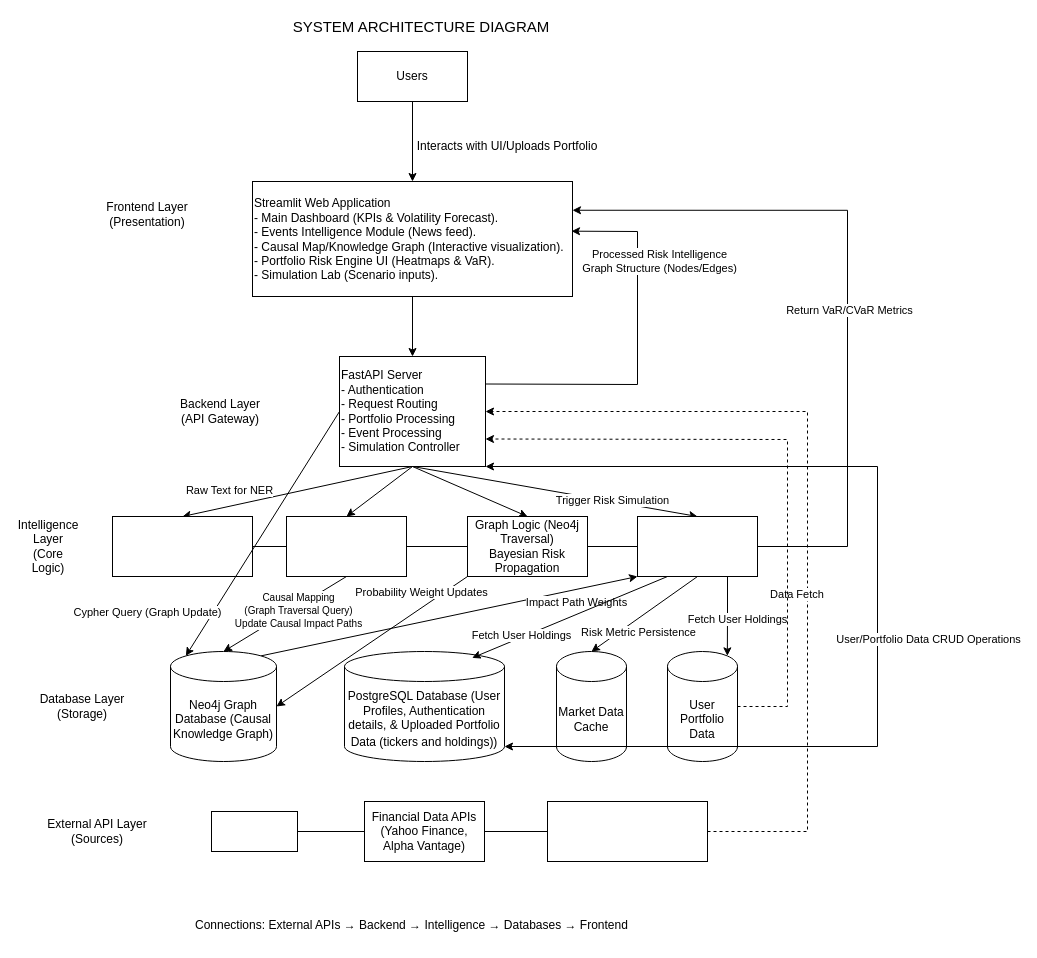
Image size: 1037x958. Some labels were removed from this diagram. Each missing label, with the box of its shape:
Alternative Data Feeds ( Weather Data or Logistics/Supply Chain reports): (546, 800, 708, 862)
LLM Reasoning Engine (Causal Insights): (286, 516, 406, 576)
Monte Carlo Simulation Engine ( Computes portfolio Value-at-Risk (VaR)): (636, 516, 758, 576)
News APIs (NewsAPI): (210, 810, 298, 852)
NLP Engine (Named Entity Recognition (NER)+ Event Detection & Classification): (112, 516, 252, 576)
